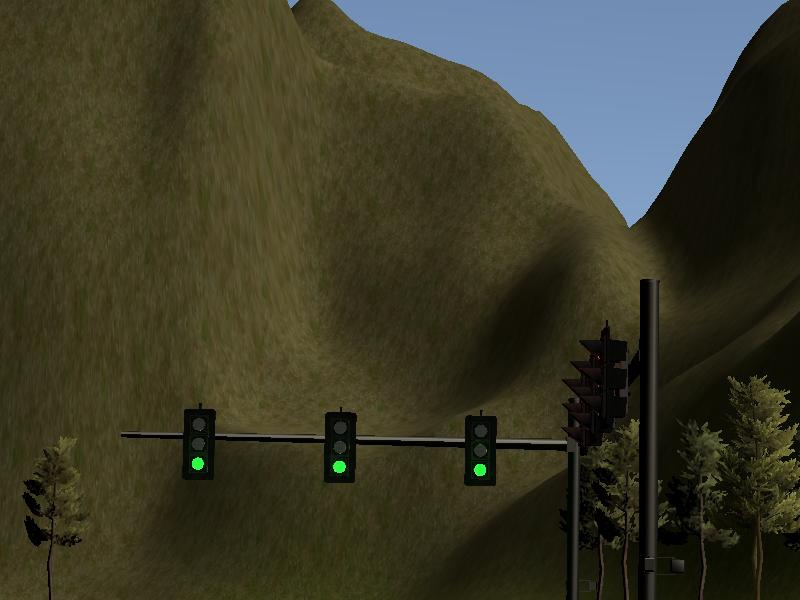green_light: (327, 413, 354, 482), (468, 417, 494, 486), (185, 409, 211, 477)
